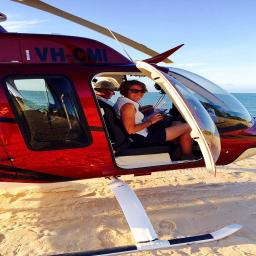helicopter: (2, 15, 253, 249)
